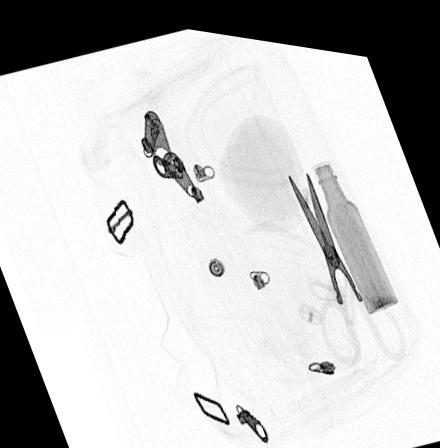Scissors: (280, 158, 408, 359)
